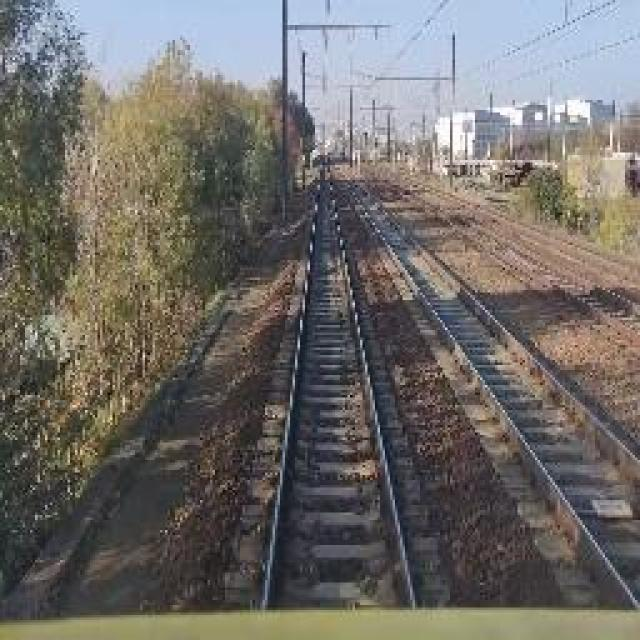rail: (214, 163, 464, 619)
